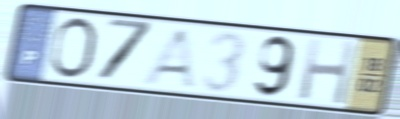3: (200, 27, 251, 98)
7: (97, 16, 156, 87)
9: (252, 34, 300, 100)
A: (140, 27, 199, 91)
H: (295, 35, 359, 108)
O: (47, 15, 100, 82)
